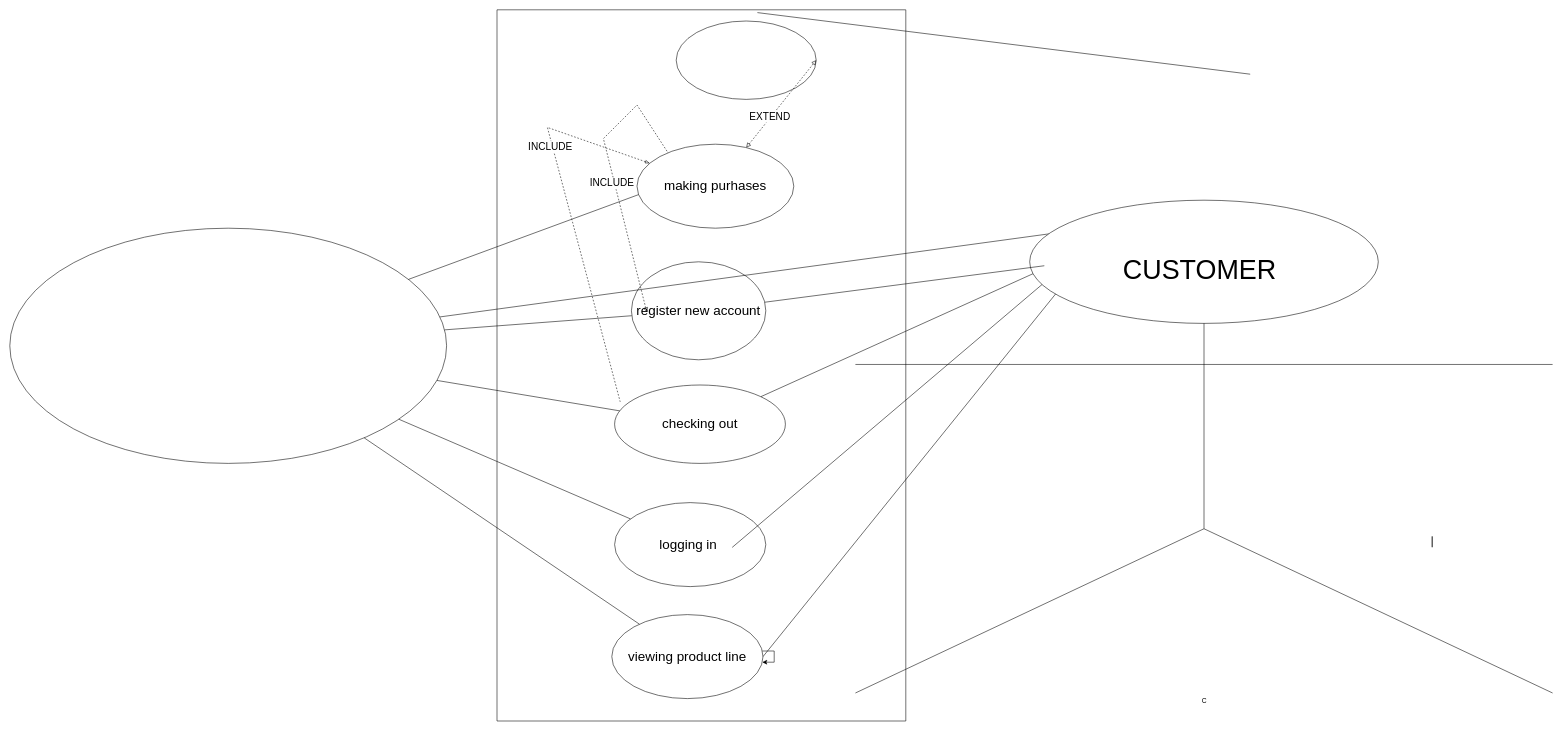
The diagram is 1562 pixels wide and 731 high, and some of its shapes have lost their labels. The centre of each missing label's shape, as x and y in pixels:
"ONLINE SHOPPING CENTER" belongs at point 228,345.
"Using rebates and coupons" belongs at point 746,59.
